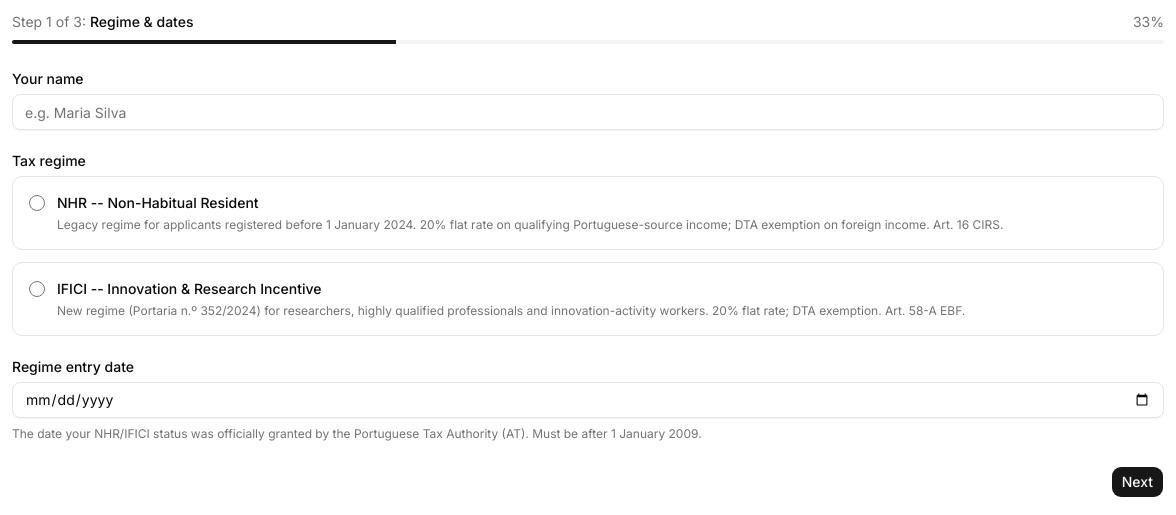
Test: OnboardingWizard › goes back to Step 1 from Step 2 when Back is clicked
Type "Test User" into the field labelled "Your name" at (588, 112), box left=12, top=94, right=1164, bottom=130
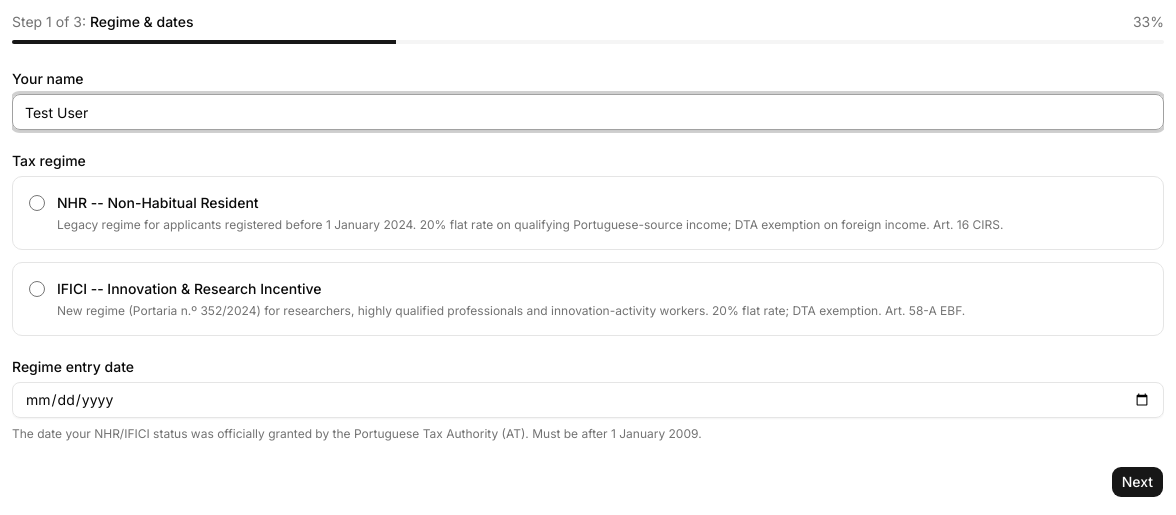
Click the text "NHR -- Non-Habitual Resident" at (158, 202), box left=57, top=194, right=259, bottom=211
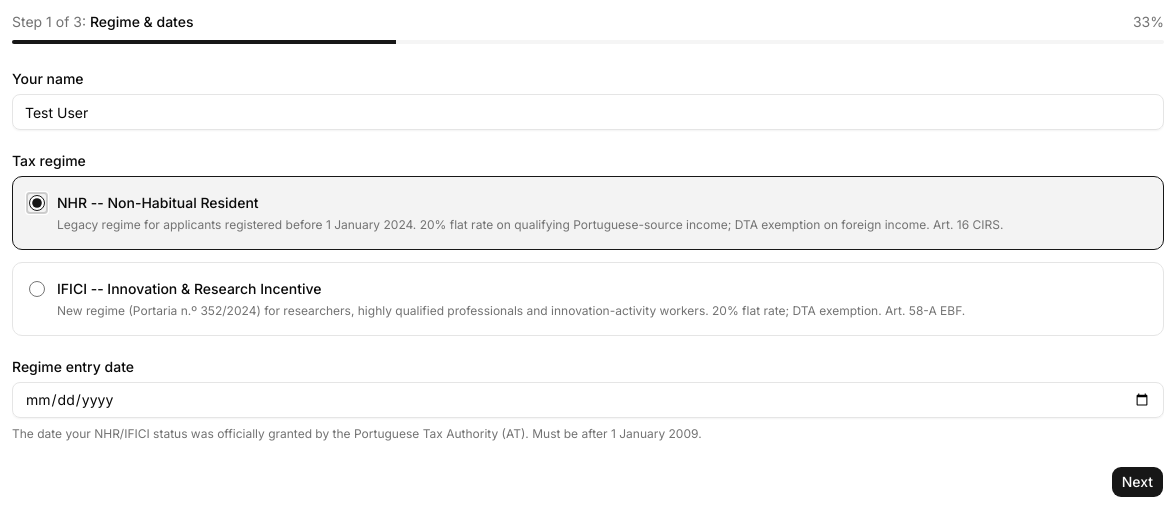
Type "2022-01-01" into the date field labelled "Regime entry date" at (588, 400), box left=12, top=382, right=1164, bottom=418
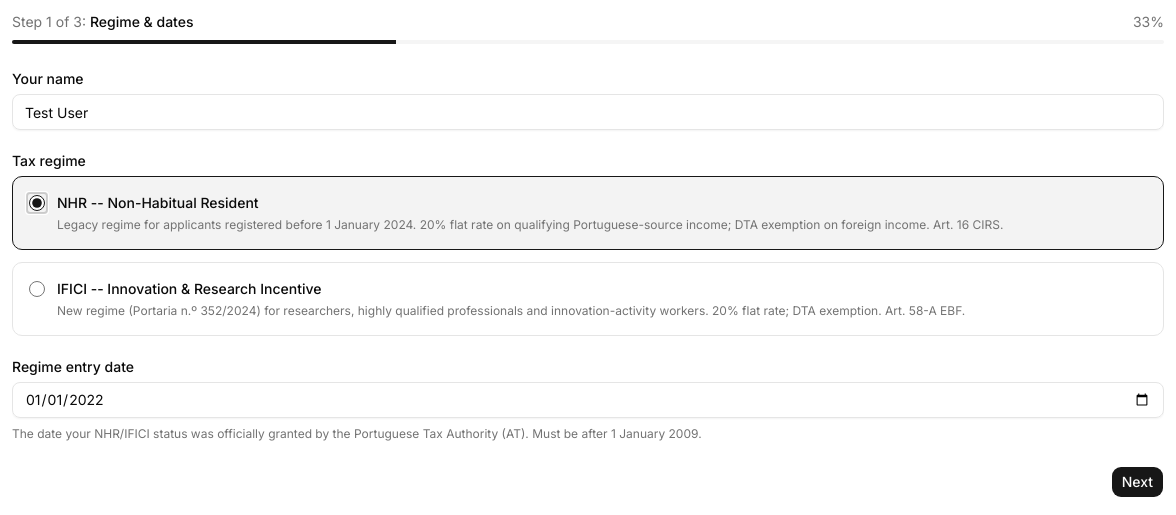
Click the button "Next" at (1137, 482), box left=1111, top=466, right=1164, bottom=498
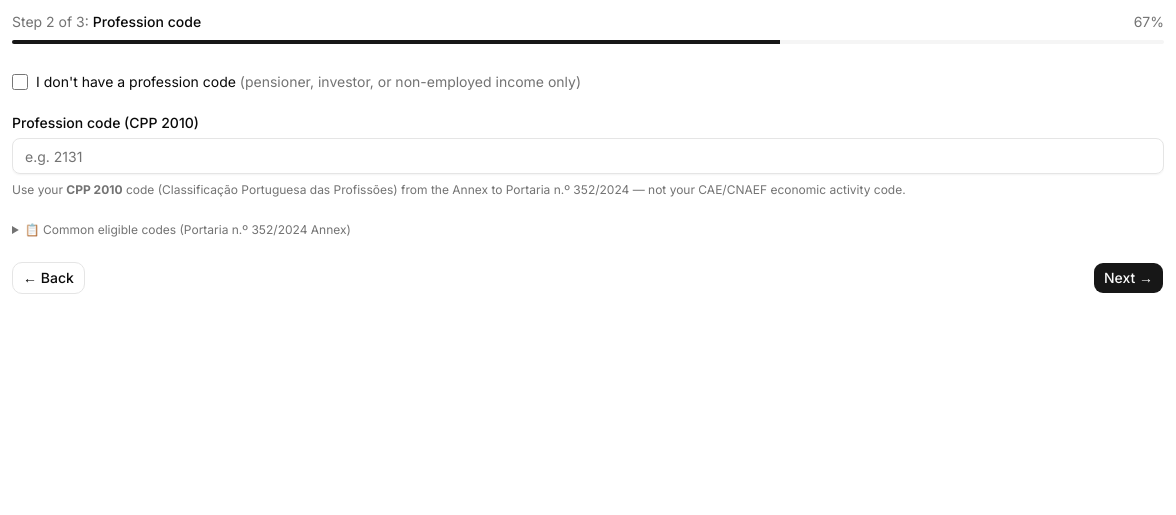
Click the button "← Back" at (48, 278), box left=12, top=262, right=85, bottom=294
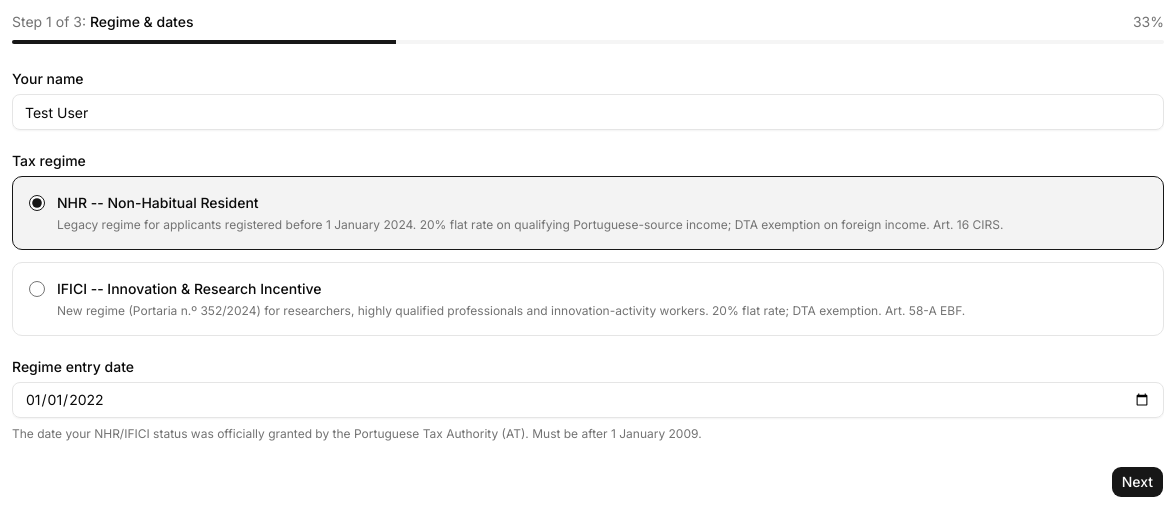
Expected: the field labelled "Your name" is shown, left=12, top=94, right=1164, bottom=130
